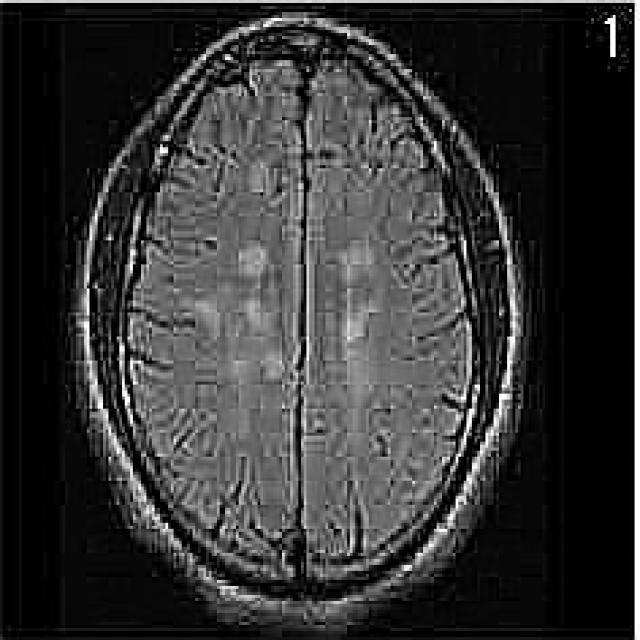notumor: (89, 18, 513, 595)
